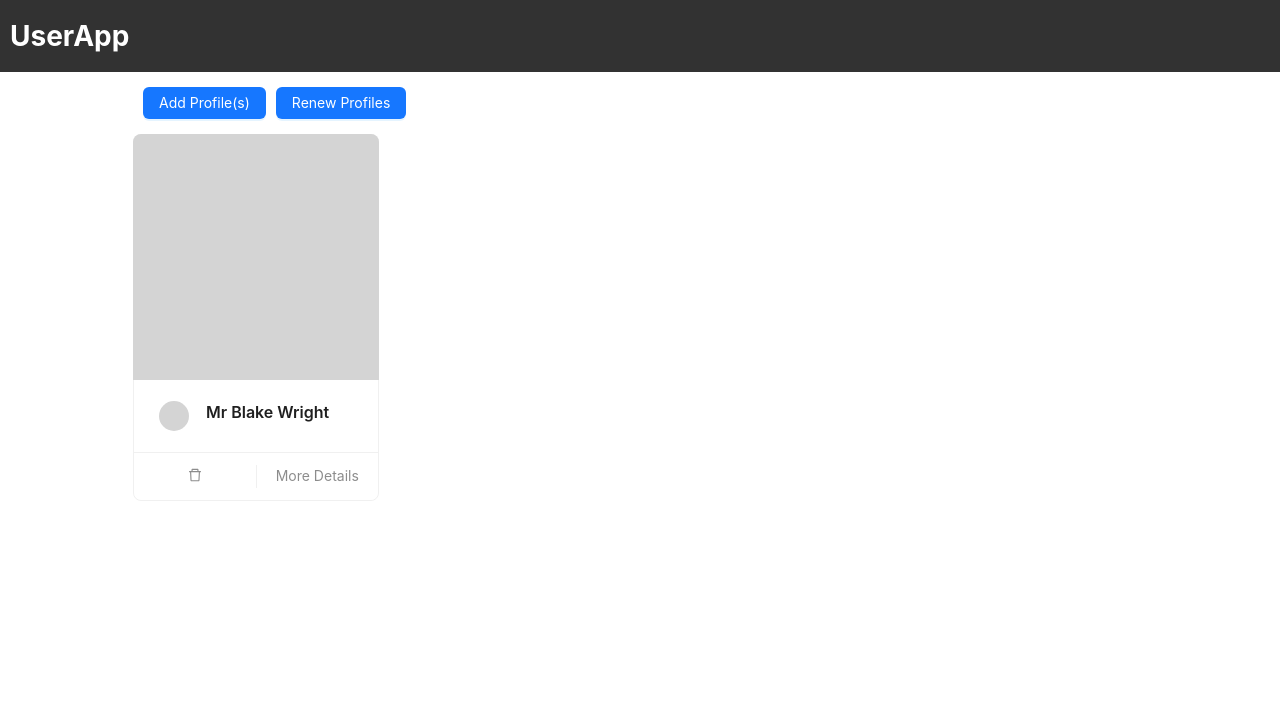
deletes the profile
This screenshot has width=1280, height=720.
Click the picture named "delete" at (195, 475), box [188, 468, 202, 482]
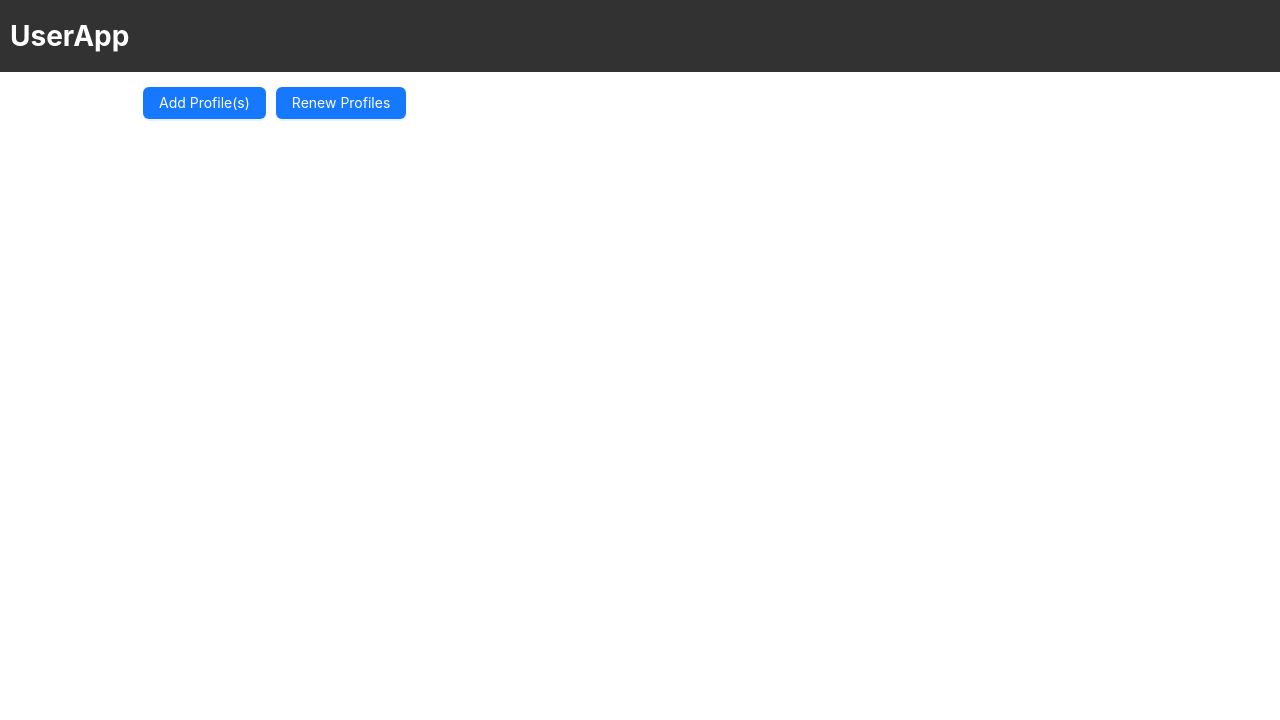
Check: the text "Mr Blake Wright" is gone
